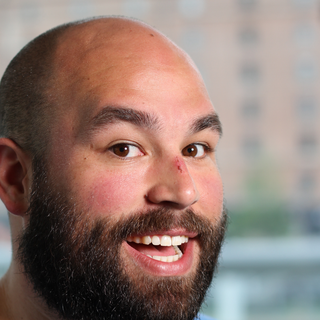eye: (100, 136, 147, 162), (177, 136, 217, 163)
